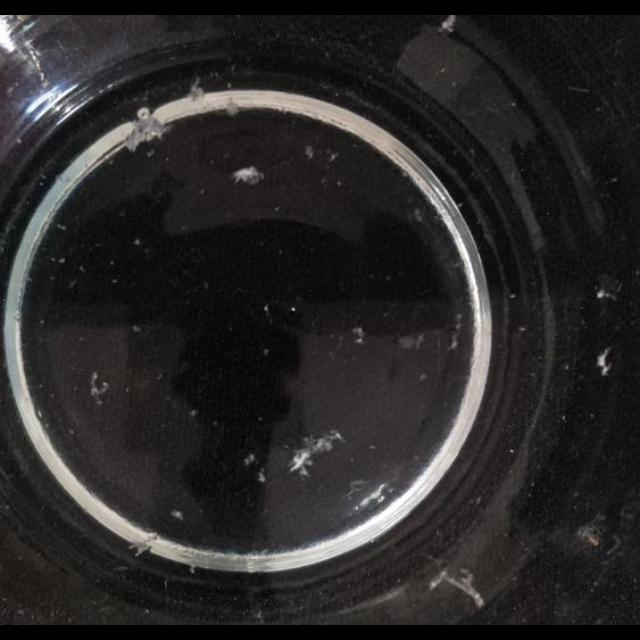Fibre: (424, 560, 486, 610), (284, 429, 346, 476), (121, 106, 169, 152), (576, 514, 622, 556), (353, 484, 389, 512), (88, 371, 110, 403), (232, 166, 264, 186), (596, 348, 614, 376), (397, 332, 425, 350), (352, 326, 364, 344), (243, 454, 255, 466), (258, 471, 266, 483)
microbeads: (446, 317, 462, 351), (264, 303, 274, 325), (170, 510, 183, 520), (188, 408, 198, 418), (418, 373, 428, 383), (132, 324, 142, 332), (68, 280, 78, 288), (188, 566, 196, 576), (133, 238, 141, 246), (509, 292, 516, 300), (368, 444, 376, 450), (264, 304, 270, 312), (272, 206, 280, 212), (59, 258, 66, 264), (290, 306, 296, 312), (509, 447, 515, 453)
